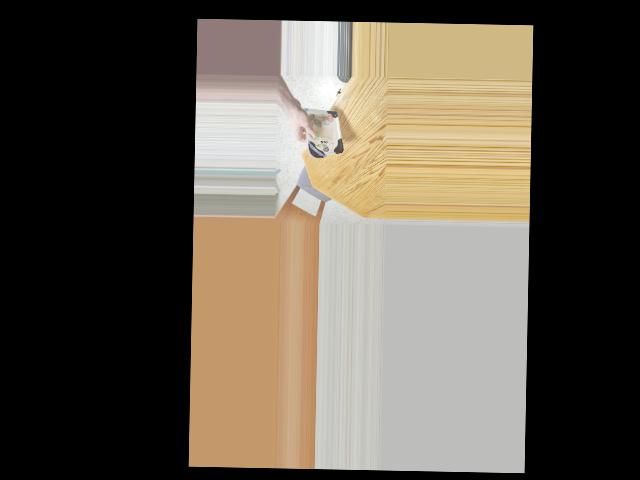cheese: (299, 106, 344, 159)
